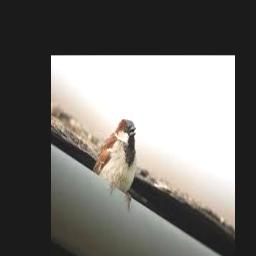Sparrow: (92, 119, 137, 206)
